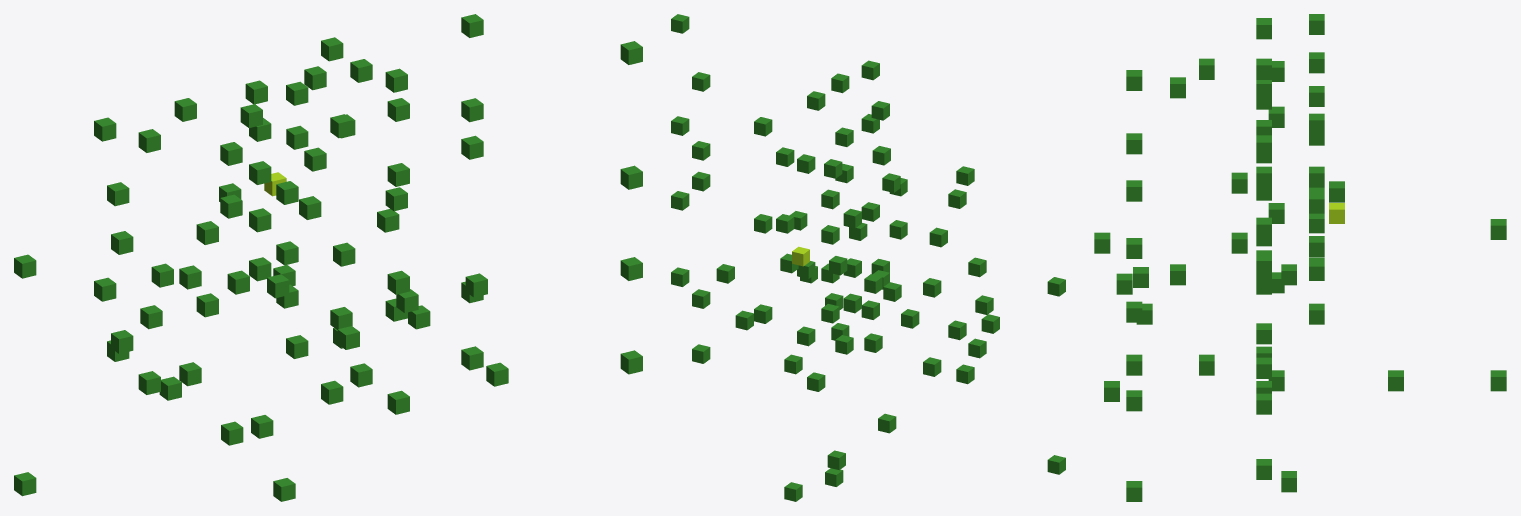
Rendered from testcubemodel3.obj.
3 views of the same model, side by side, from view 1: azimuth 30°, elevation 25°; view 2: azimuth 150°, elevation 25°; view 3: azimuth 270°, elevation 25° (orthographic). The views are drawn at different scales.
Bounding box in the file's own units: 77.37 × 61.64 × 51.98.
Materials: 76 (1 with a texture image).
